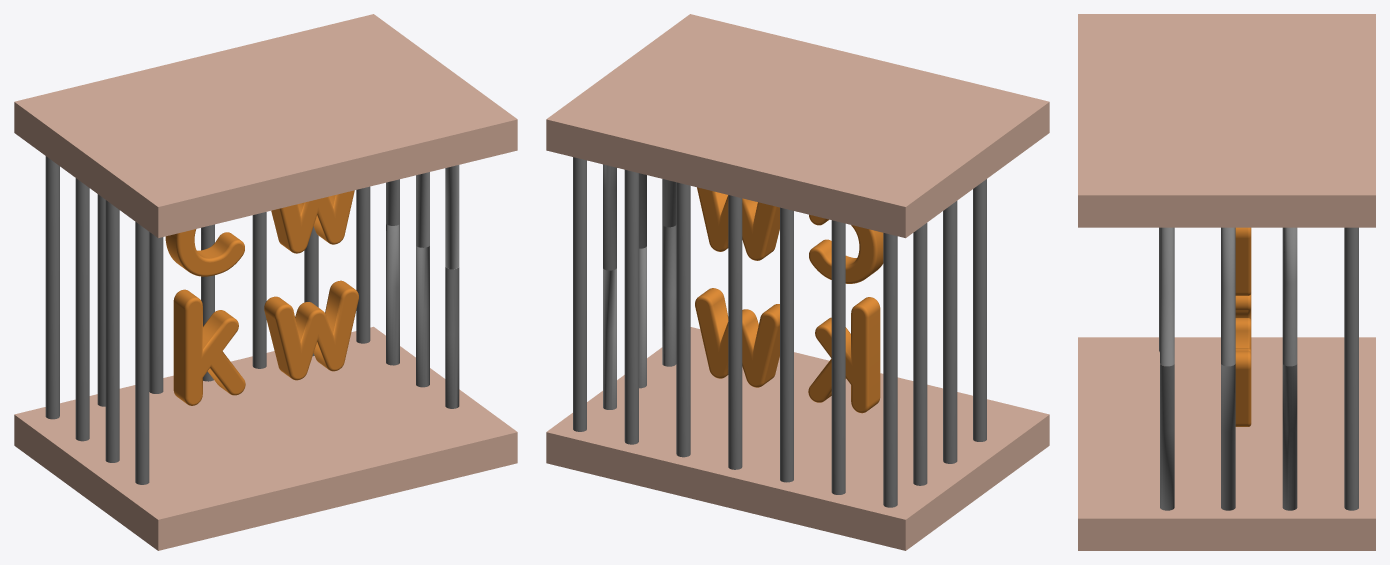
Rendered from QUrule.gltf.
The picture shows the model from 3 angles, left to right: view 1: azimuth 30°, elevation 25°; view 2: azimuth 150°, elevation 25°; view 3: azimuth 270°, elevation 25°; orthographic projection. The views are drawn at different scales.
Parts seen in each view (by area): view 1: Cube.000, Cube.001, Cylinder.001, Cylinder.003, Text.001, Cylinder.002, Text, Cylinder.009; view 2: Cube.000, Cube.001, Cylinder.003, Cylinder.001, Text.001, Text, Cylinder.002, Cylinder.009; view 3: Cube.000, Cube.001, Cylinder.002, Cylinder.009, Cylinder.003, Text.001, Text.
Part boxes in pixels (x1,y1,x2,y2): Cube.000: (14,14,517,238); Cube.001: (14,326,517,550); Cylinder.001: (45,156,149,484); Cylinder.003: (52,161,370,419); Text.001: (173,280,358,405); Cylinder.002: (386,224,459,408); Text: (165,190,354,276); Cylinder.009: (386,165,459,269); Cube.000: (546,14,1049,238); Cube.001: (546,327,1049,550); Cylinder.003: (573,157,896,504); Cylinder.001: (883,179,986,507); Text.001: (695,288,880,413); Text: (697,187,883,283); Cylinder.002: (603,225,676,409); Cylinder.009: (603,164,676,270); Cube.000: (1078,14,1375,227); Cube.001: (1078,337,1375,550); Cylinder.002: (1160,364,1297,510); Cylinder.009: (1160,227,1297,366); Cylinder.003: (1344,227,1358,510); Text.001: (1235,294,1251,426); Text: (1235,227,1251,295).
Size of what is drawn, in the model's own units: 2 by 1.83 by 1.39.
